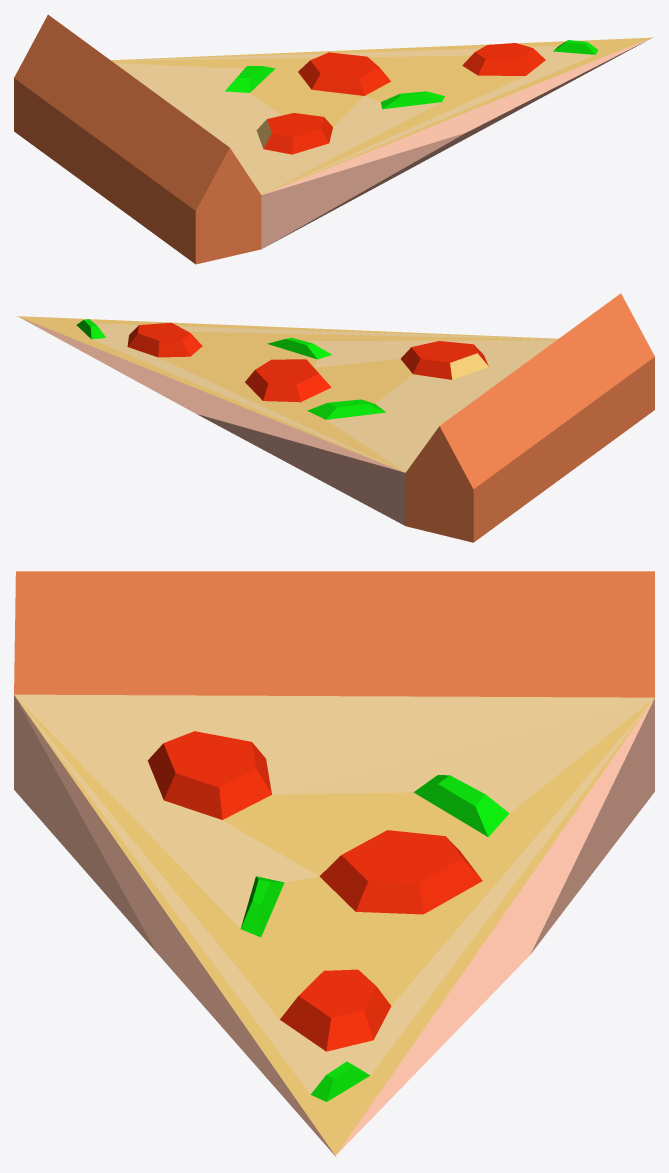
Rendered from Yellow_pizza.fbx.
3 views of the same model, one above another, from view 1: azimuth 30°, elevation 25°; view 2: azimuth 150°, elevation 25°; view 3: azimuth 270°, elevation 25° (orthographic). The views are drawn at different scales.
Parts seen in each view (by area): view 1: Cube.011; view 2: Cube.011; view 3: Cube.011.
Part boxes in pixels (left/top/right/bottom): Cube.011: left=14, top=14, right=653, bottom=264; Cube.011: left=15, top=293, right=654, bottom=542; Cube.011: left=14, top=571, right=654, bottom=1157.
Bounding box in the file's own units: 159 × 30.04 × 91.08.
